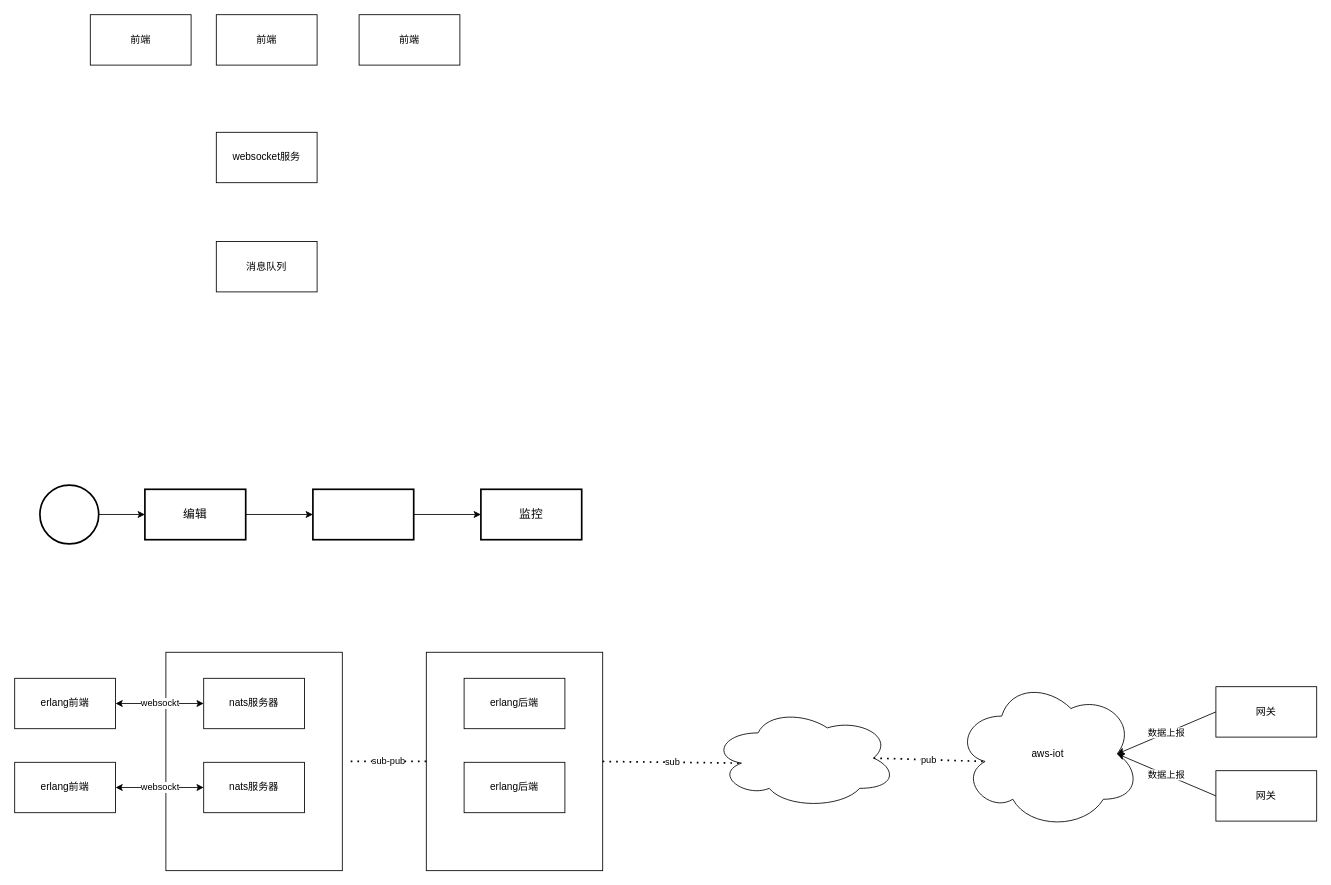
The diagram is 1331 pixels wide and 885 high, and some of its shapes have lost their labels. Here are the shapes that lost their labels. From the top down, the box of each, then its label:
(39, 484, 99, 544): 配置入口
(312, 488, 414, 540): 发布
(711, 707, 897, 808): aws-sqs
